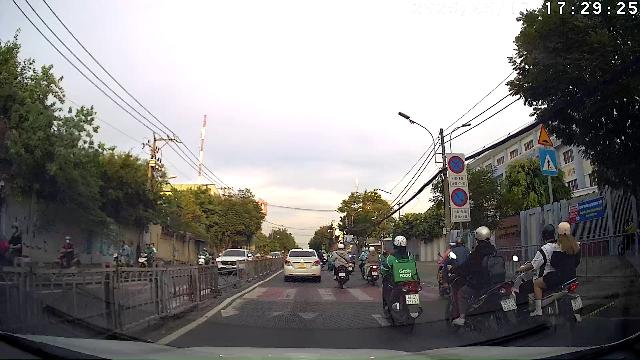130-cam-dung-va-do-xe: (448, 154, 464, 174)
131a-cam-do-xe: (450, 188, 468, 207)
423a-duong-nguoi-di-bo-sang-ngang-1: (540, 149, 556, 175)
